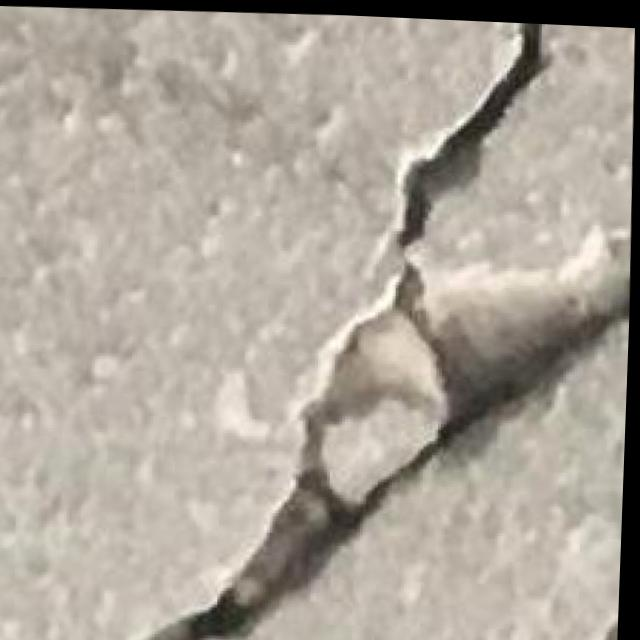Crack: (119, 5, 640, 640)
